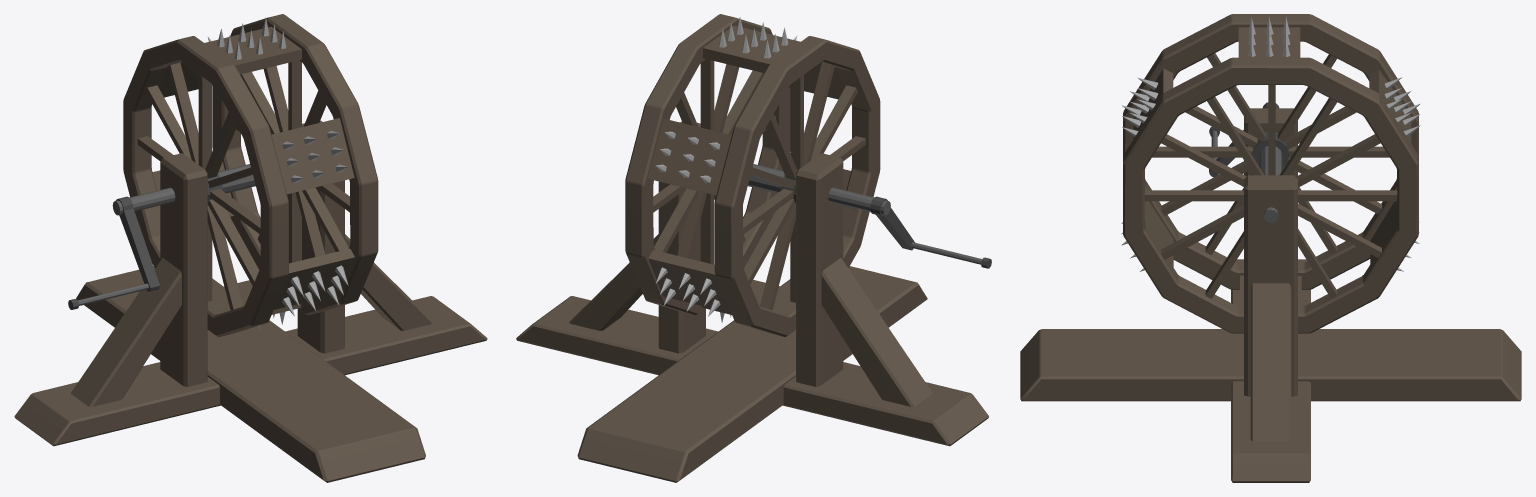
File: RuedadeTortura (1).fbx
The picture shows the model from 3 angles, left to right: view 1: azimuth 30°, elevation 25°; view 2: azimuth 150°, elevation 25°; view 3: azimuth 270°, elevation 25°; orthographic projection.
Parts seen in each view (by area): view 1: RuedadeTortura; view 2: RuedadeTortura; view 3: RuedadeTortura.
Boxes of the visible parts, box(x1,y1,x2,y2) form: RuedadeTortura: box(14, 14, 487, 482); RuedadeTortura: box(516, 14, 991, 482); RuedadeTortura: box(1020, 14, 1521, 482).
Size of the model in its own units: 4.01 by 3.09 by 4.01.
